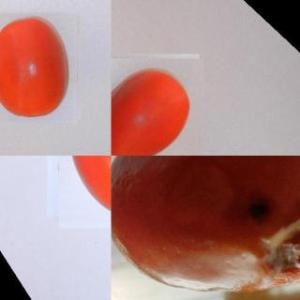tomato: (111, 56, 201, 156), (1, 15, 80, 121), (53, 156, 111, 222)
